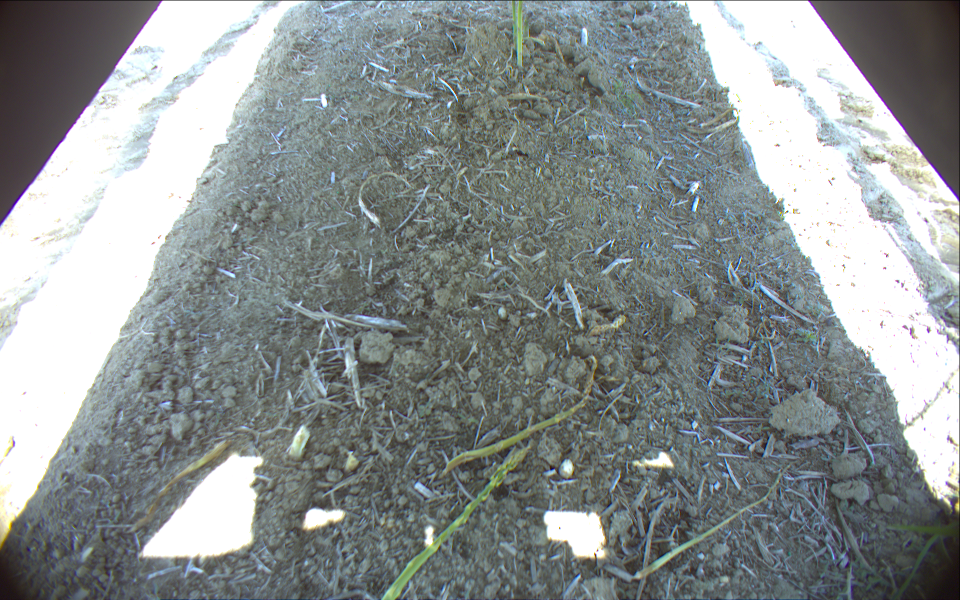aspa: (382, 443, 533, 600), (634, 461, 789, 579), (444, 356, 599, 473), (132, 439, 229, 534), (286, 424, 310, 461), (517, 1, 525, 69), (509, 1, 518, 49)
